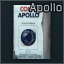Apollon Soyuz cigarettes: (0, 0, 64, 64)
